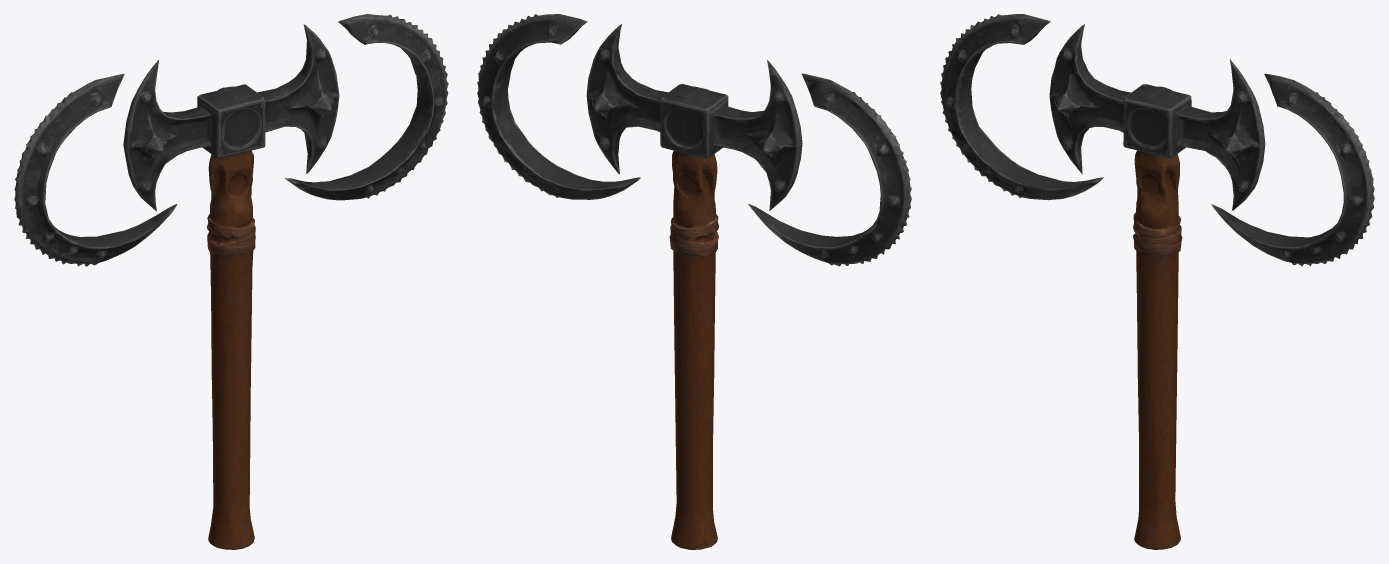
Rendered from axe-2.glb.
The picture shows the model from 3 angles, left to right: view 1: azimuth 30°, elevation 25°; view 2: azimuth 150°, elevation 25°; view 3: azimuth 330°, elevation 25°; orthographic projection.
Visible parts, largest first — view 1: Mesh_0; view 2: Mesh_0; view 3: Mesh_0.
Part boxes in pixels (x1,y1,x2,y2): Mesh_0: (14,14,448,549); Mesh_0: (477,14,911,549); Mesh_0: (940,14,1374,549).
Size of the model in its own units: 1.72 by 1.9 by 0.2049.
Materials: 1 (1 with a texture image).
